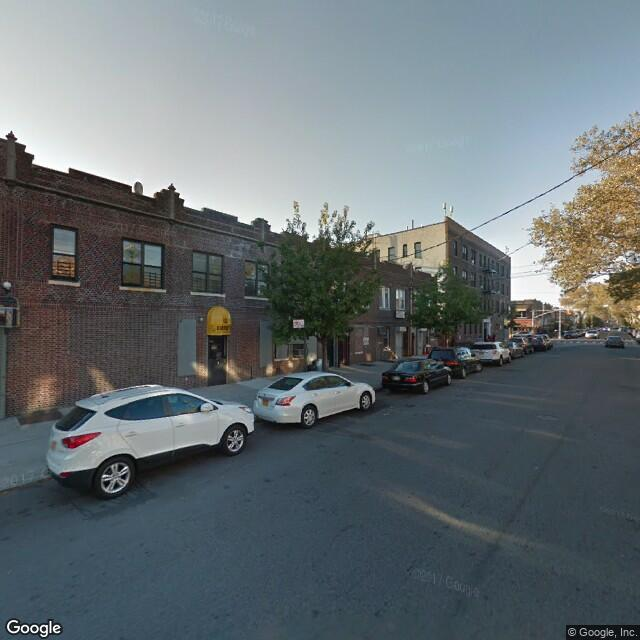litter: (374, 410, 414, 421)
